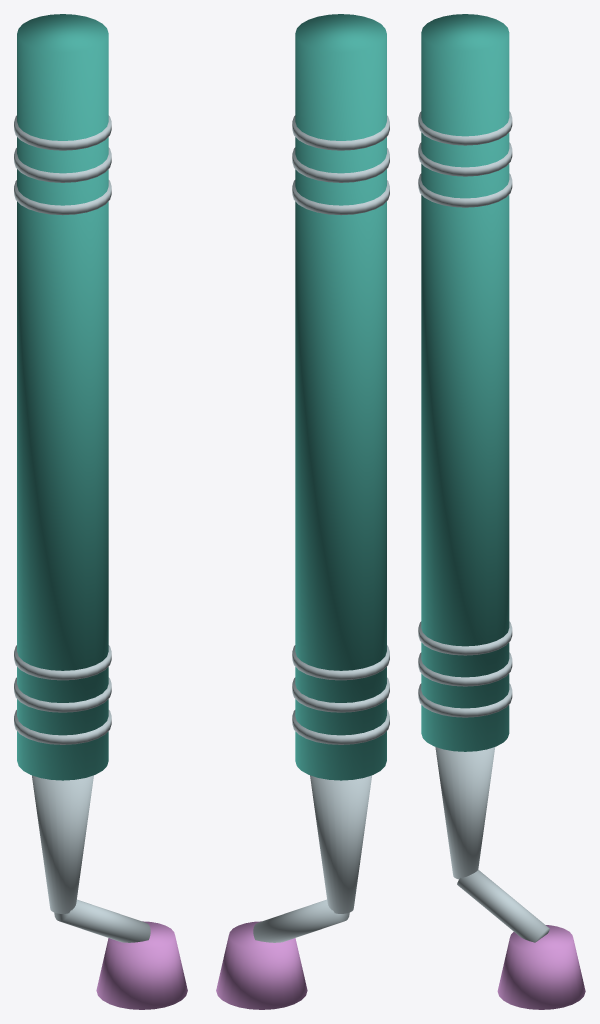
File: polisher.glb
3 views of the same model, side by side, from view 1: azimuth 30°, elevation 25°; view 2: azimuth 150°, elevation 25°; view 3: azimuth 330°, elevation 25° (orthographic). The views are drawn at different scales.
Parts seen in each view (by area): view 1: Grip.001, Polishing cup, Tapered neck.001, Angled tip.001, Grip ring.007, Grip ring.011, Grip ring.010, Grip ring.008, Grip ring.006, Grip ring.009; view 2: Grip.001, Polishing cup, Tapered neck.001, Angled tip.001, Grip ring.007, Grip ring.011, Grip ring.010, Grip ring.008, Grip ring.006, Grip ring.009; view 3: Grip.001, Polishing cup, Tapered neck.001, Angled tip.001, Grip ring.006, Grip ring.009, Grip ring.007, Grip ring.010, Grip ring.008, Grip ring.011.
Part boxes in pixels (x1=…): Grip.001: x1=17, y1=14, x2=108, y2=780; Polishing cup: x1=96, y1=921, x2=187, y2=1009; Tapered neck.001: x1=32, y1=775, x2=93, y2=913; Angled tip.001: x1=54, y1=899, x2=150, y2=942; Grip ring.007: x1=14, y1=677, x2=111, y2=712; Grip ring.011: x1=14, y1=115, x2=111, y2=150; Grip ring.010: x1=14, y1=147, x2=111, y2=182; Grip ring.008: x1=14, y1=645, x2=111, y2=680; Grip ring.006: x1=14, y1=710, x2=111, y2=744; Grip ring.009: x1=14, y1=180, x2=111, y2=215; Grip.001: x1=295, y1=14, x2=386, y2=780; Polishing cup: x1=216, y1=921, x2=307, y2=1009; Tapered neck.001: x1=310, y1=775, x2=371, y2=913; Angled tip.001: x1=253, y1=899, x2=349, y2=942; Grip ring.007: x1=292, y1=677, x2=389, y2=712; Grip ring.011: x1=292, y1=115, x2=389, y2=150; Grip ring.010: x1=292, y1=147, x2=389, y2=182; Grip ring.008: x1=292, y1=645, x2=389, y2=680; Grip ring.006: x1=292, y1=710, x2=389, y2=744; Grip ring.009: x1=292, y1=180, x2=389, y2=215; Grip.001: x1=421, y1=14, x2=509, y2=751; Polishing cup: x1=497, y1=925, x2=585, y2=1009; Tapered neck.001: x1=435, y1=747, x2=495, y2=879; Angled tip.001: x1=457, y1=870, x2=549, y2=942; Grip ring.006: x1=418, y1=683, x2=512, y2=717; Grip ring.009: x1=418, y1=173, x2=512, y2=207; Grip ring.007: x1=418, y1=652, x2=512, y2=686; Grip ring.010: x1=418, y1=142, x2=512, y2=176; Grip ring.008: x1=418, y1=621, x2=512, y2=655; Grip ring.011: x1=418, y1=111, x2=512, y2=145.
Size of the model in its own units: 0.366 by 2.12 by 0.192.
